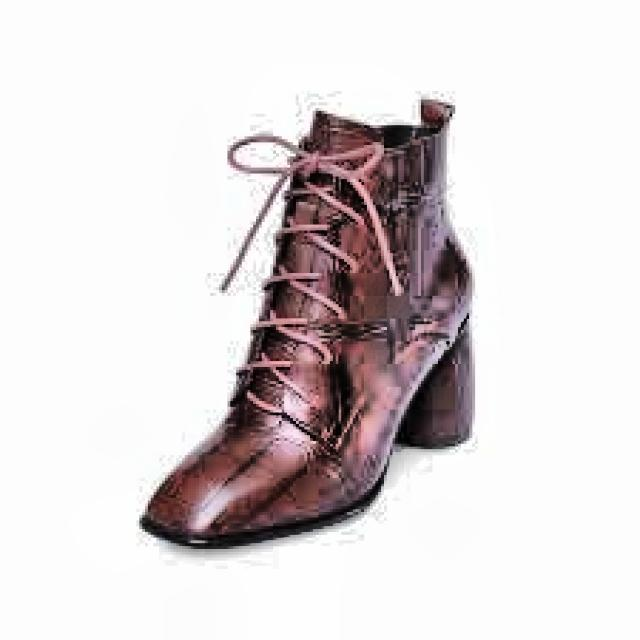shoes: (139, 102, 483, 548)
